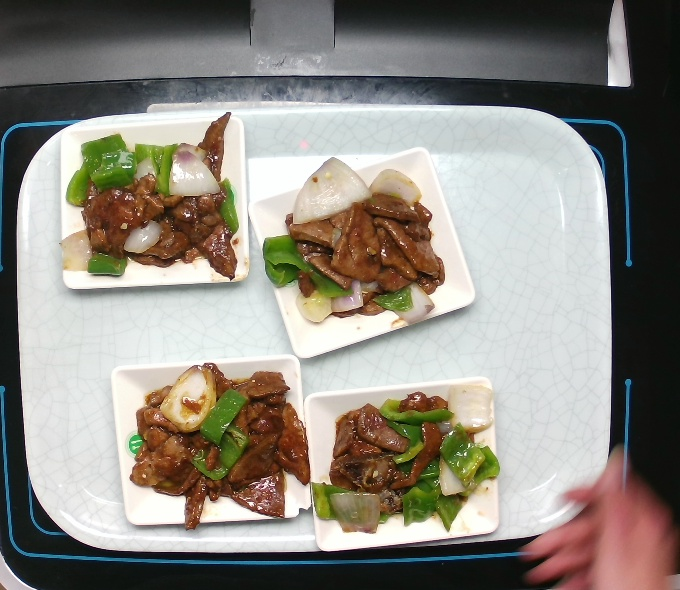wcq-ZhuGan: (261, 153, 453, 331), (58, 110, 247, 289), (124, 355, 313, 531), (315, 380, 502, 537)
